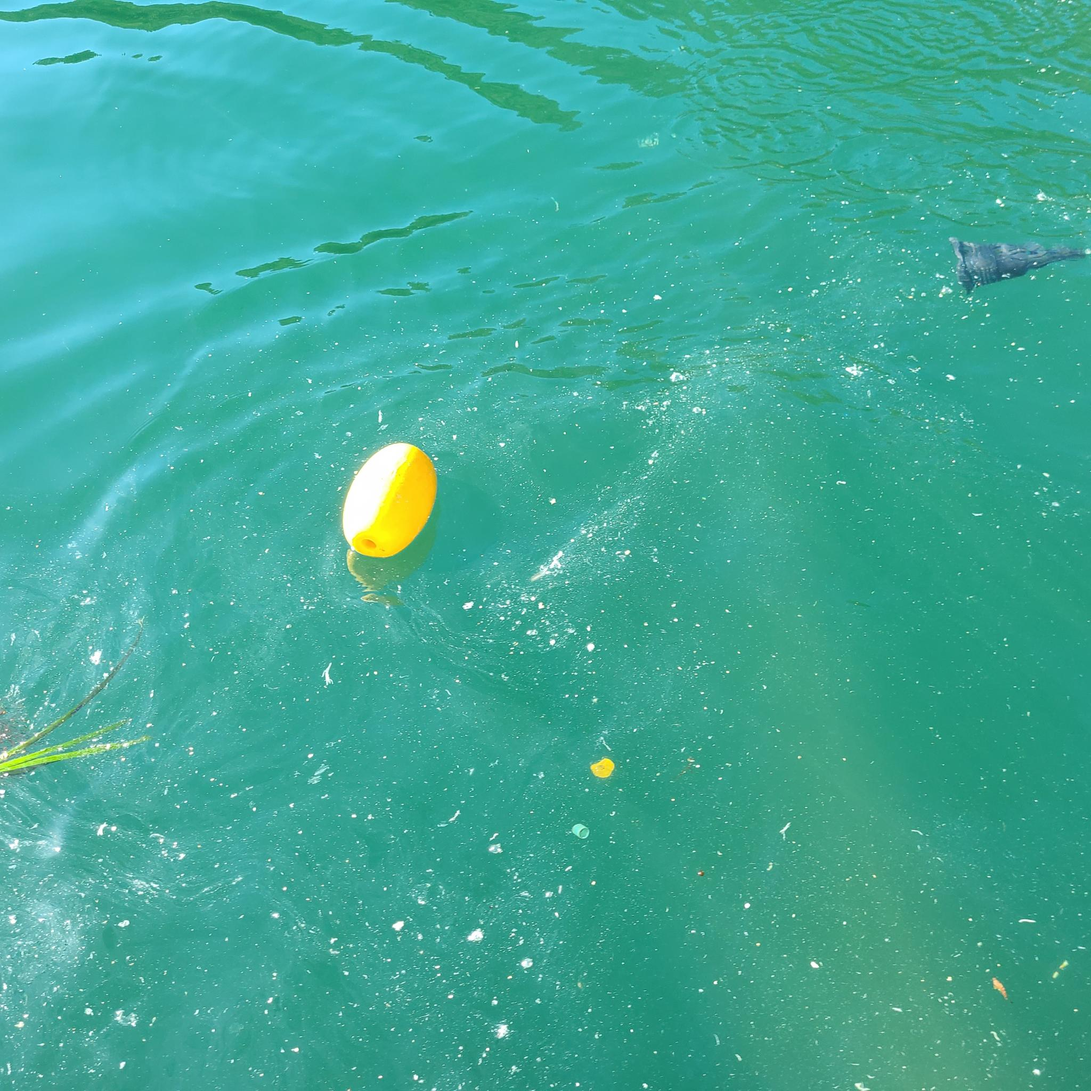sampah_terapung: (344, 443, 438, 558), (949, 237, 1086, 296)
